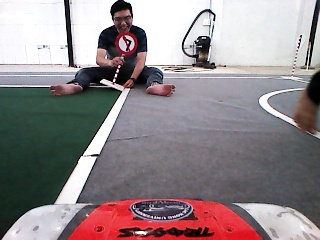ban_left: (114, 32, 137, 55)
